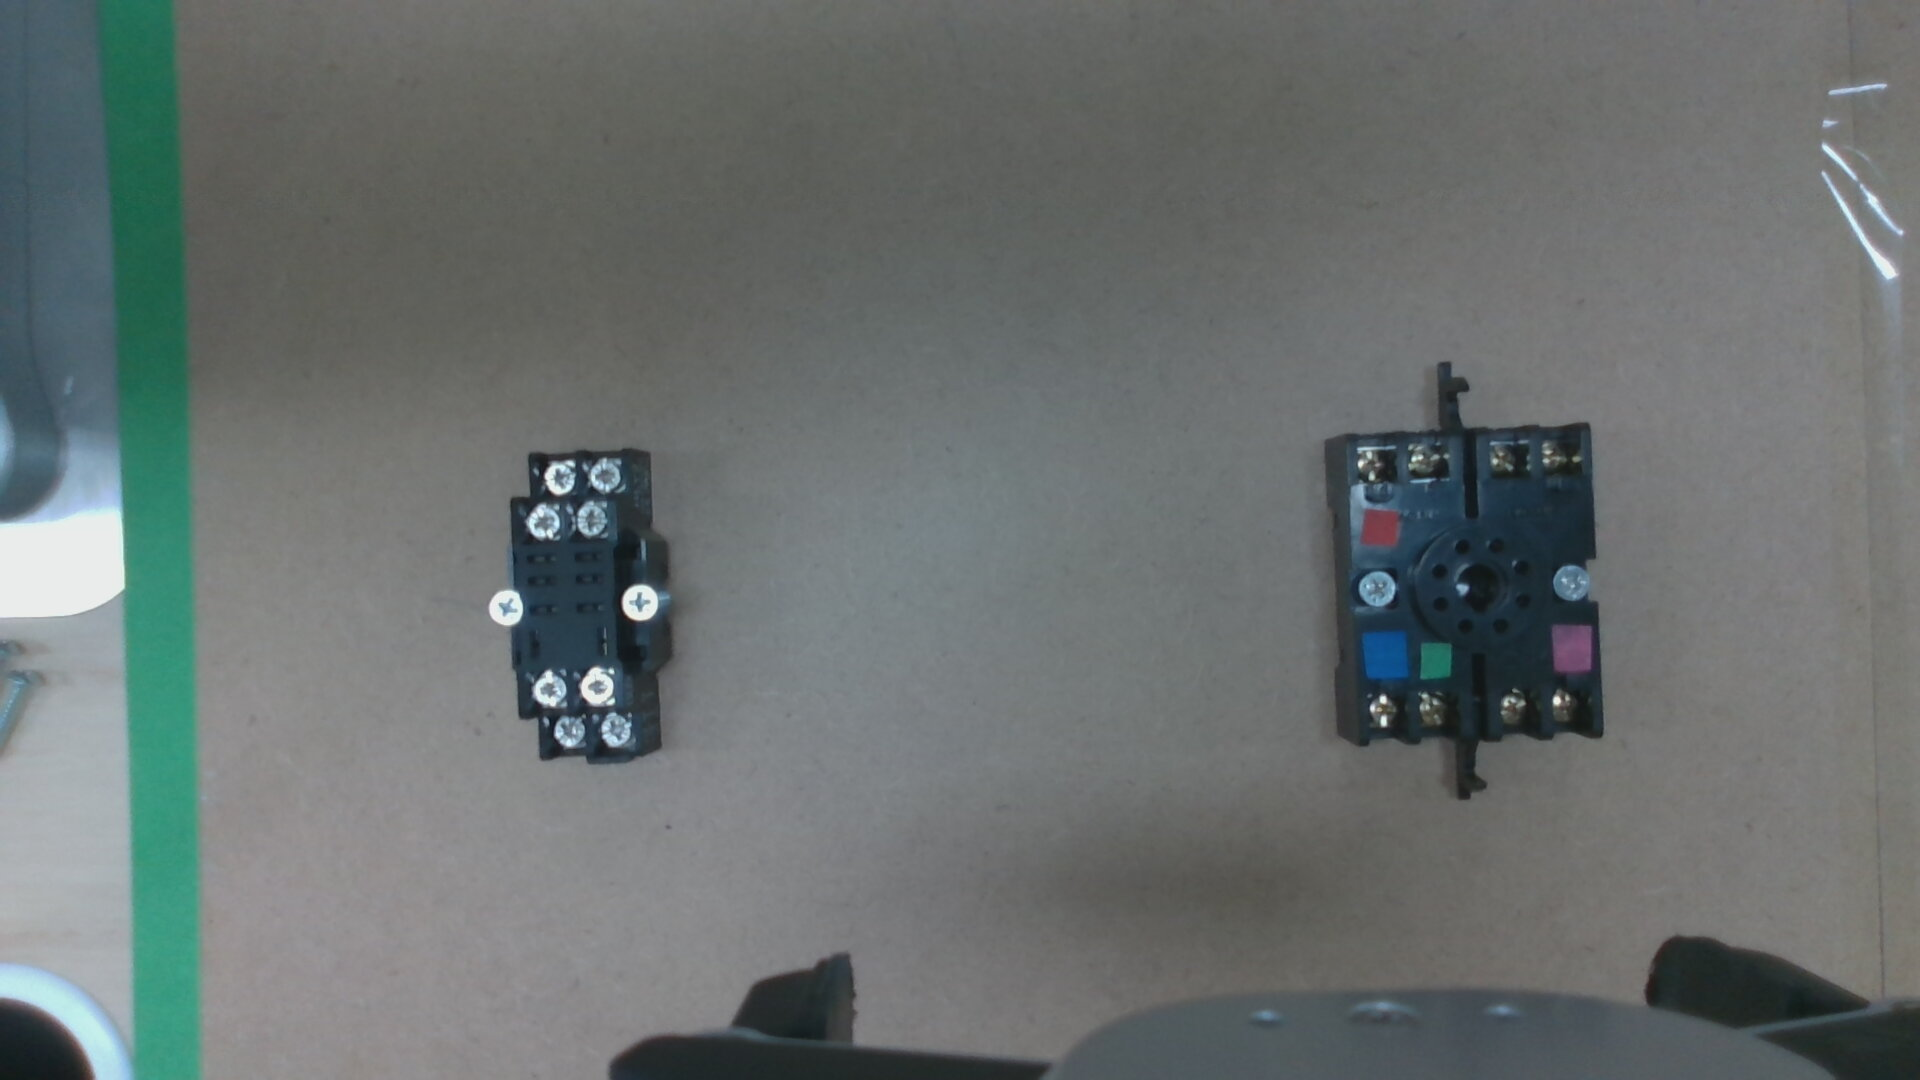relay 3: (585, 460, 621, 492)
relay 4: (539, 465, 574, 492)
relay 5: (597, 717, 632, 748)
relay 6: (549, 717, 582, 748)
relay 7: (578, 673, 611, 704)
relay 8: (529, 674, 566, 705)
